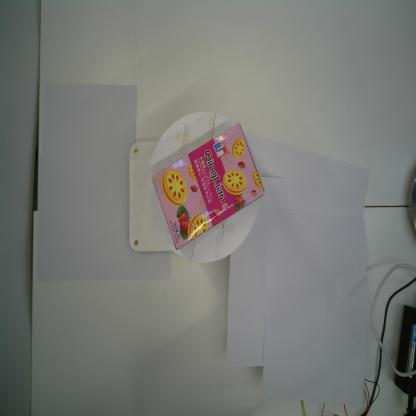Dessert: (152, 122, 266, 251)
